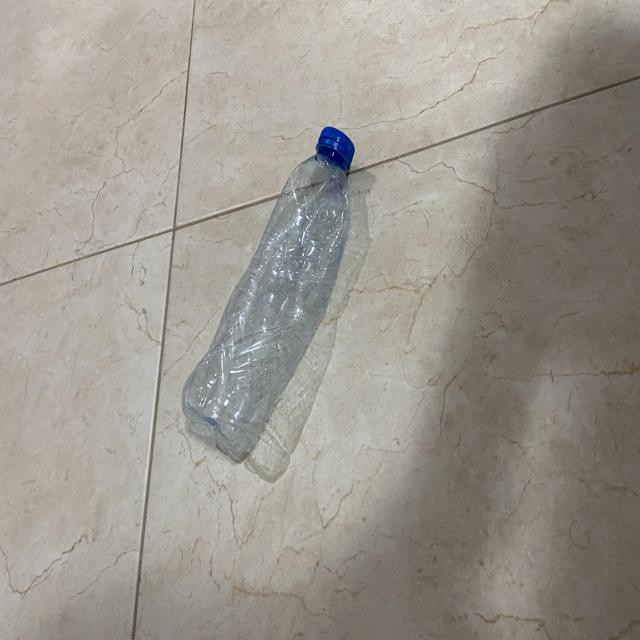plastic: (178, 122, 358, 464)
